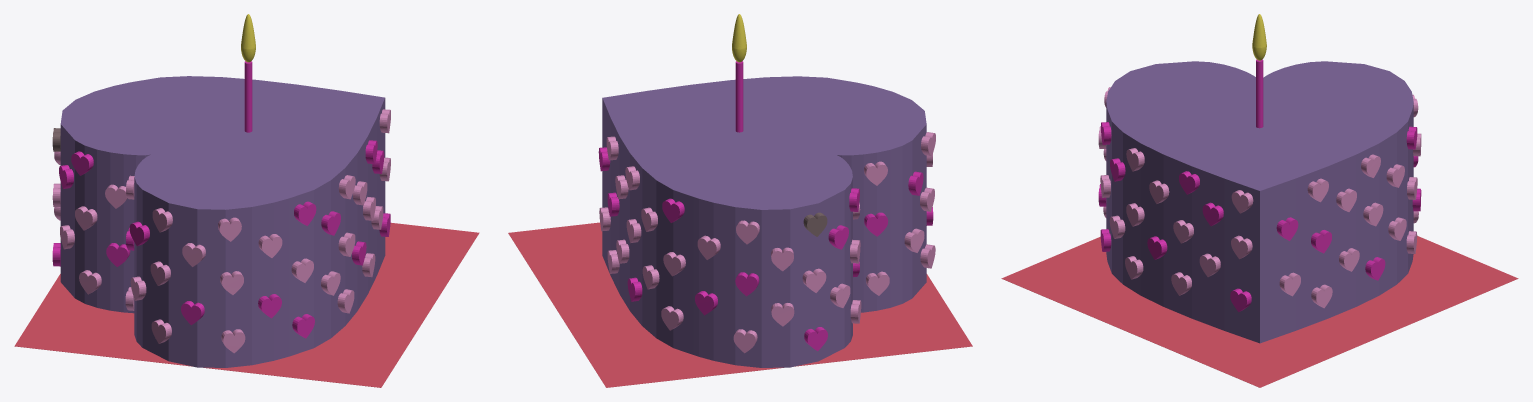
File: ube.glb
3 views of the same model, side by side, from view 1: azimuth 30°, elevation 25°; view 2: azimuth 150°, elevation 25°; view 3: azimuth 270°, elevation 25° (orthographic). The views are drawn at different scales.
Parts seen in each view (by area): view 1: Mesh_Mesh_head_geo.001_lambert2SG.001; view 2: Mesh_Mesh_head_geo.001_lambert2SG.001; view 3: Mesh_Mesh_head_geo.001_lambert2SG.001.
Boxes of the visible parts, bbox=[...] form: Mesh_Mesh_head_geo.001_lambert2SG.001: bbox=[14, 14, 479, 387]; Mesh_Mesh_head_geo.001_lambert2SG.001: bbox=[508, 14, 972, 387]; Mesh_Mesh_head_geo.001_lambert2SG.001: bbox=[1001, 14, 1518, 387].
Bounding box in the file's own units: 0.0354 × 0.02 × 0.0354.
